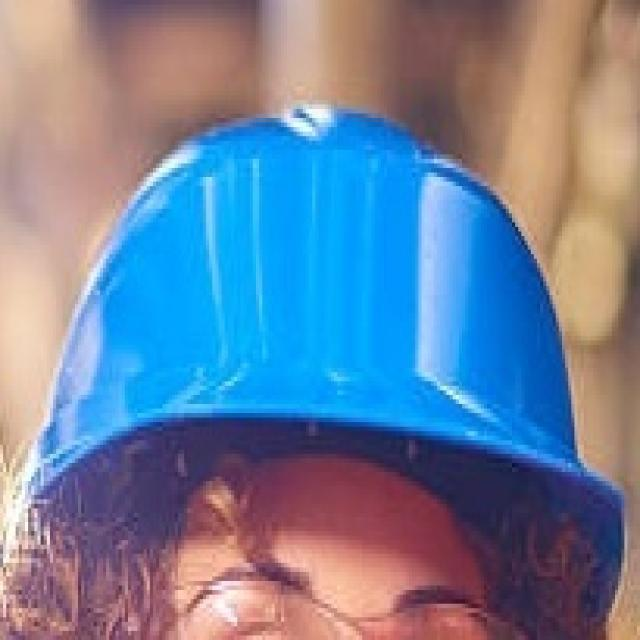blue helmet: (7, 93, 633, 638)
